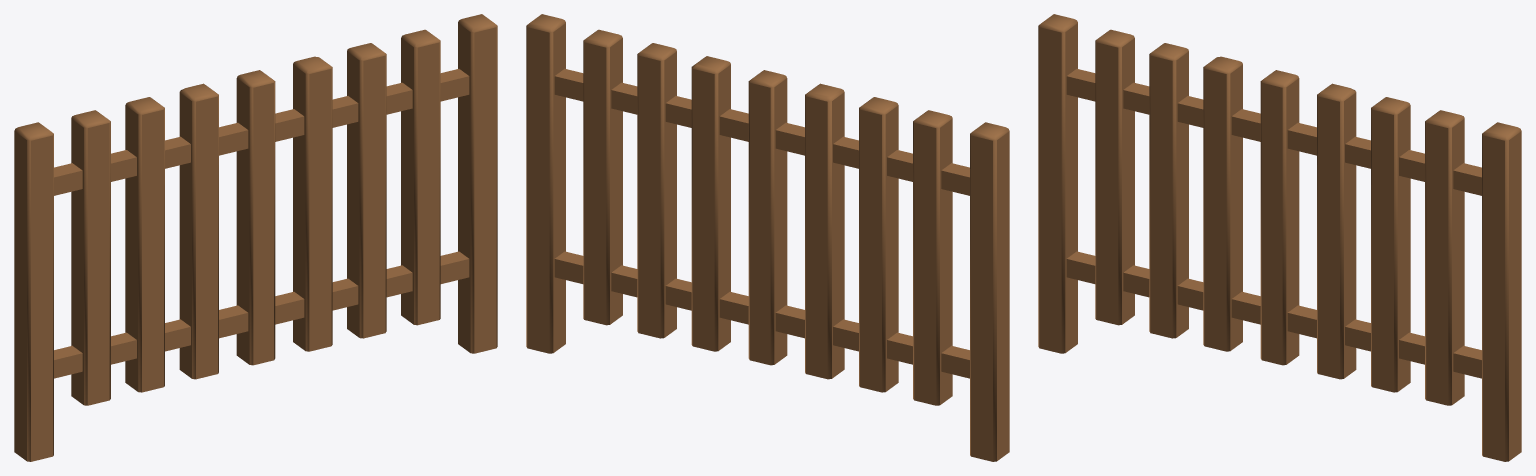
The model's file is Fence.fbx.
The picture shows the model from 3 angles, left to right: view 1: azimuth 30°, elevation 25°; view 2: azimuth 150°, elevation 25°; view 3: azimuth 330°, elevation 25°; orthographic projection.
Parts seen in each view (by area): view 1: Fence; view 2: Fence; view 3: Fence.
Boxes of the visible parts, box(x1,y1,x2,y2) form: Fence: box(14, 14, 497, 461); Fence: box(526, 14, 1009, 461); Fence: box(1038, 14, 1521, 461).
Bounding box in the file's own units: 159 × 105 × 9.12.
